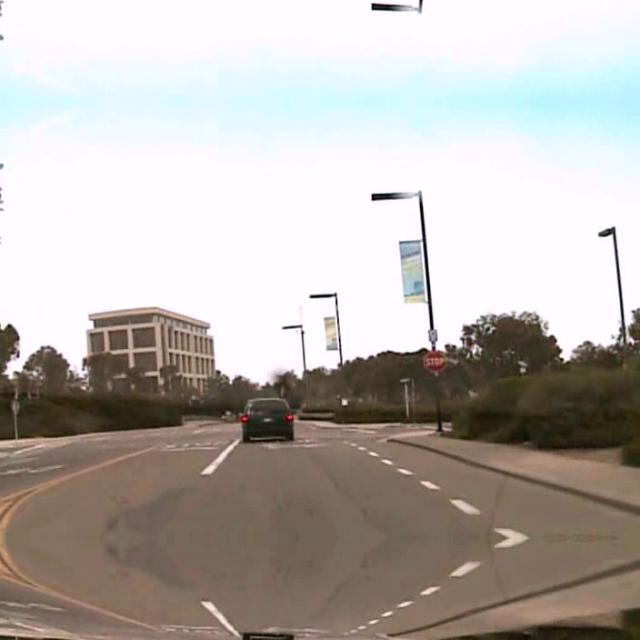stop: (422, 348, 446, 372)
